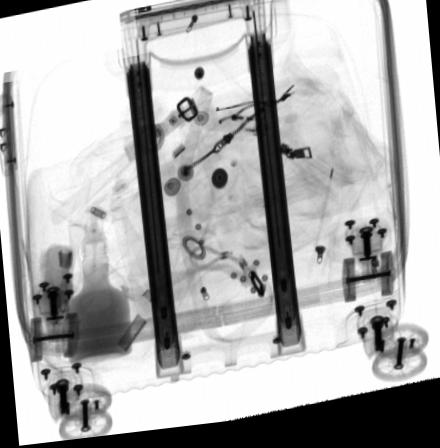Lighter: (200, 115, 271, 143)
